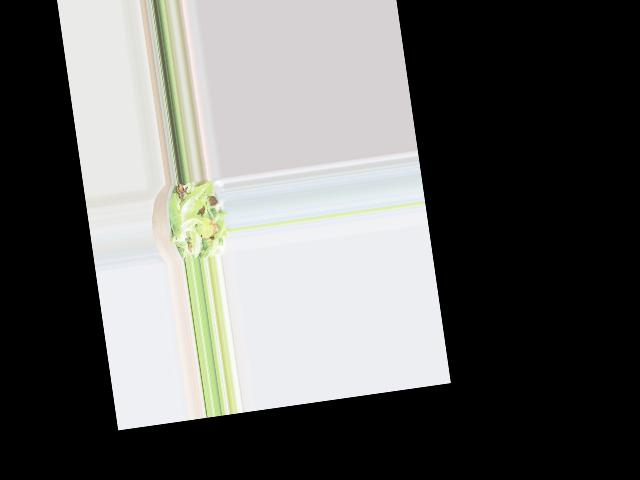lettuce: (165, 184, 228, 258)
